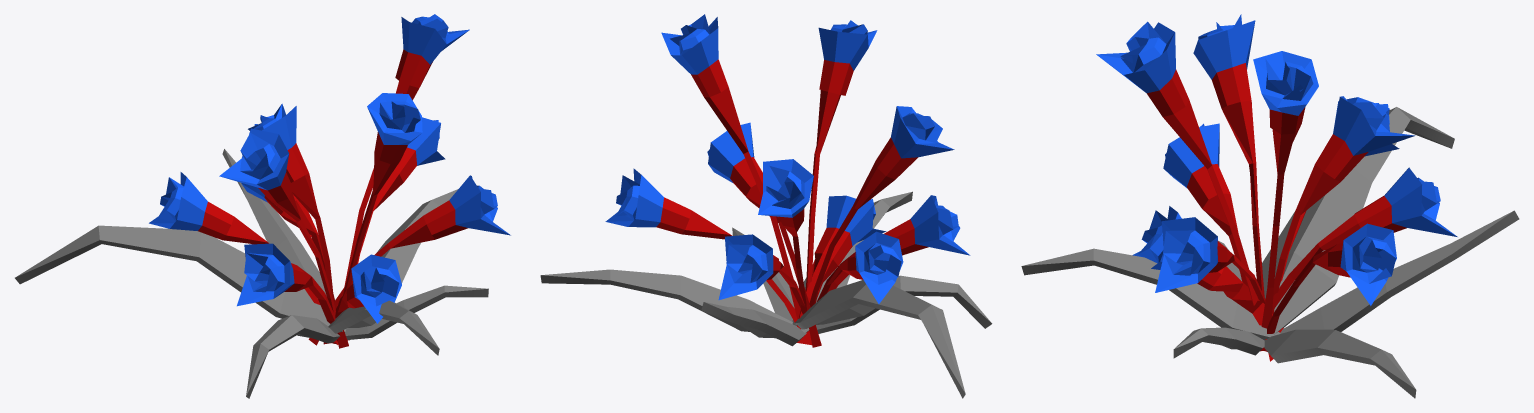
Rendered from PatchNarcissus04.fbx.
3 renders of one model, left to right at view 1: azimuth 30°, elevation 25°; view 2: azimuth 150°, elevation 25°; view 3: azimuth 270°, elevation 25°, orthographic. The views are drawn at different scales.
Parts seen in each view (by area): view 1: PatchNarcissus04; view 2: PatchNarcissus04; view 3: PatchNarcissus04.
Part boxes in pixels (left/top/right/bottom): PatchNarcissus04: left=15, top=14, right=510, bottom=398; PatchNarcissus04: left=540, top=14, right=992, bottom=398; PatchNarcissus04: left=1021, top=14, right=1519, bottom=398.
Size of the model in its own units: 77.25 by 50.71 by 65.08.
